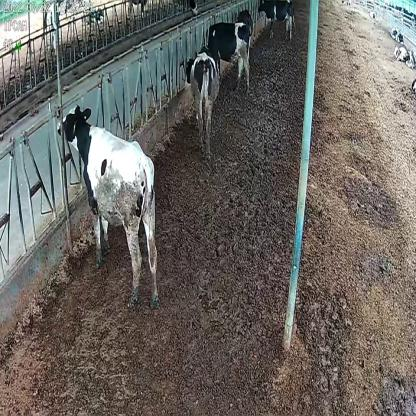cow: (55, 100, 160, 310), (184, 46, 220, 160), (198, 21, 252, 94), (258, 1, 297, 41)
